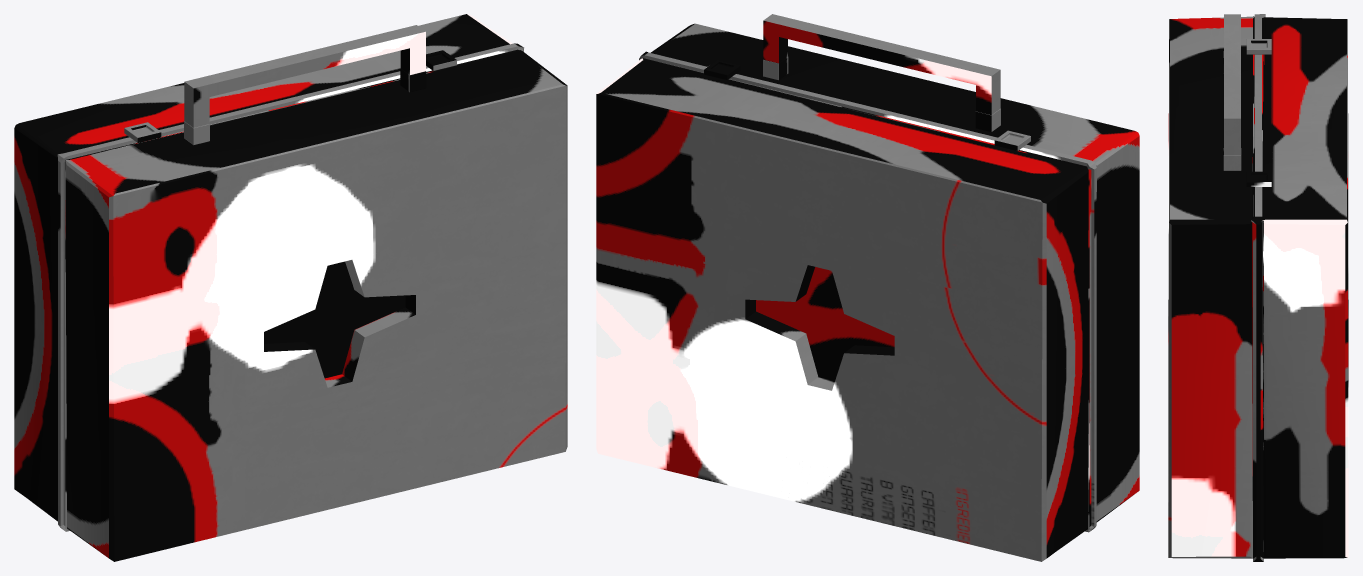
The model's file is WHITE HEALTH KIT.fbx.
3 views of the same model, side by side, from view 1: azimuth 30°, elevation 25°; view 2: azimuth 150°, elevation 25°; view 3: azimuth 270°, elevation 25° (orthographic). The views are drawn at different scales.
Visible parts, largest first — view 1: HEALTH KIT WHITE; view 2: HEALTH KIT WHITE; view 3: HEALTH KIT WHITE.
Boxes of the visible parts, x1,y1,x2,y2 form: HEALTH KIT WHITE: (14, 14, 567, 561); HEALTH KIT WHITE: (596, 14, 1139, 561); HEALTH KIT WHITE: (1168, 14, 1348, 561).
Bounding box in the file's own units: 42.12 × 37.17 × 15.44.
